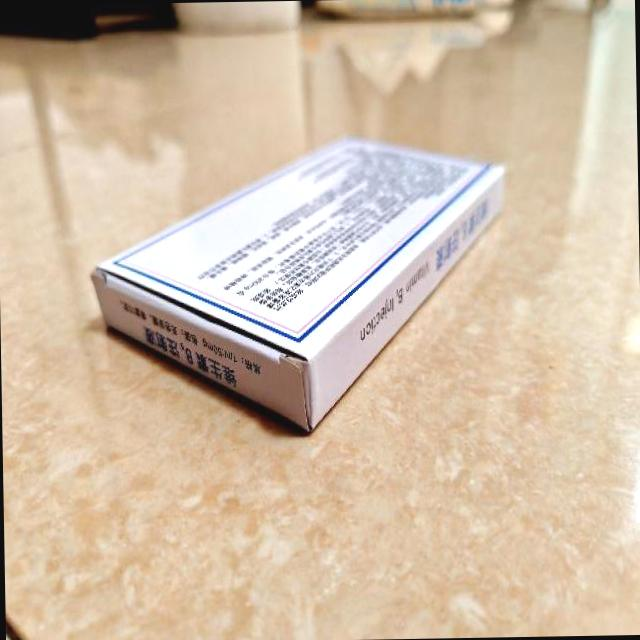box: (89, 134, 512, 438)
